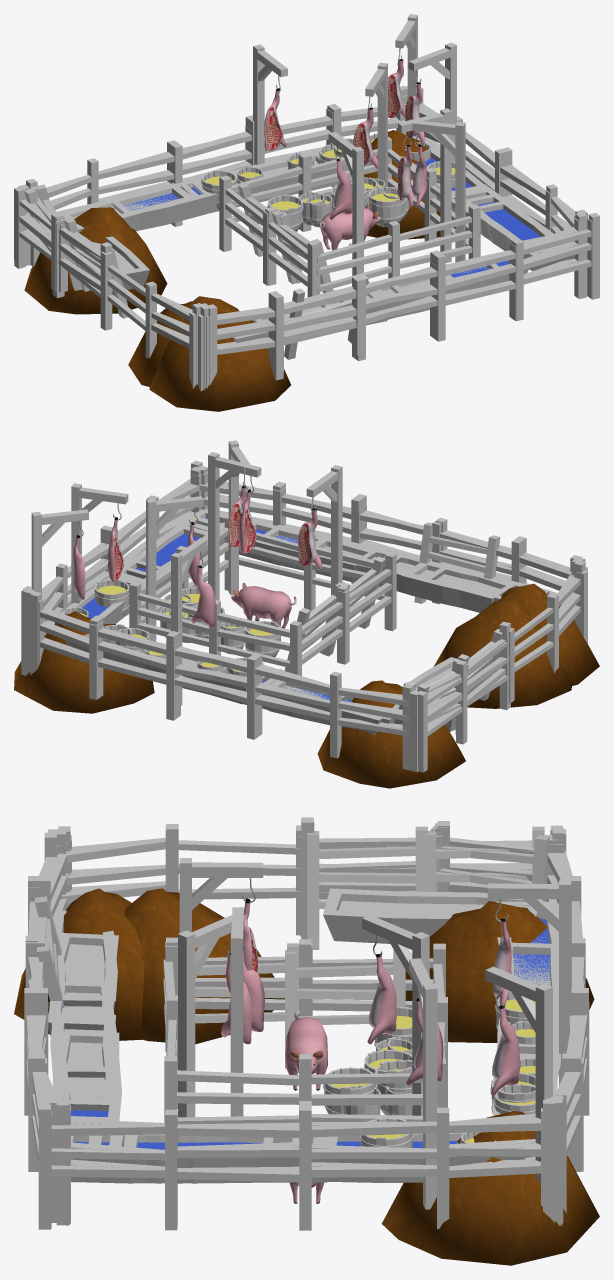
The model's file is Livestock4.fbx.
The picture shows the model from 3 angles, top to bottom: view 1: azimuth 30°, elevation 25°; view 2: azimuth 150°, elevation 25°; view 3: azimuth 270°, elevation 25°; orthographic projection. The views are drawn at different scales.
Parts seen in each view (by area): view 1: DungHeap.001, DungHeap.003, Fence.024, Carcass.003, Carcass.004, Trough.014, Carcass.006, Carcass.002, Fence.025, Carcass.001, Carcass.008, Fence.068 (+63 smaller); view 2: DungHeap.003, DungHeap.002, DungHeap.004, Carcass.002, Fence.035, Carcass.004, Fence.021, Fence.005, DungHeap.001, Trough.011, Carcass.001, Carcass.006 (+67 smaller); view 3: DungHeap.002, DungHeap.003, DungHeap.004, Trough.015, DungHeap.001, Fence.059, Fence.066, Carcass.005, Carcass.003, Carcass.006, Fence.078, Fence.026 (+61 smaller).
Boxes of the visible parts, x1,y1,x2,y2 form: DungHeap.001: [149, 312, 290, 411]; DungHeap.003: [24, 207, 167, 314]; Fence.024: [312, 222, 399, 295]; Carcass.003: [408, 119, 465, 262]; Carcass.004: [328, 132, 363, 275]; Trough.014: [109, 170, 243, 230]; Carcass.006: [253, 44, 287, 164]; Carcass.002: [397, 108, 451, 262]; Fence.025: [392, 206, 480, 268]; Carcass.001: [353, 62, 387, 187]; Carcass.008: [405, 42, 456, 161]; Fence.068: [523, 218, 592, 299]; DungHeap.003: [317, 680, 465, 788]; DungHeap.002: [14, 611, 154, 713]; DungHeap.004: [434, 600, 571, 708]; Carcass.002: [208, 452, 261, 600]; Fence.035: [338, 552, 396, 664]; Carcass.004: [298, 465, 342, 595]; Fence.021: [209, 601, 301, 675]; Fence.005: [247, 658, 341, 758]; DungHeap.001: [497, 583, 599, 685]; Trough.011: [401, 562, 549, 607]; Carcass.001: [146, 496, 203, 641]; Carcass.006: [171, 538, 215, 705]; DungHeap.002: [381, 1111, 599, 1265]; DungHeap.003: [405, 901, 594, 1042]; DungHeap.004: [124, 888, 284, 1044]; Trough.015: [323, 888, 537, 943]; DungHeap.001: [14, 888, 144, 1040]; Fence.059: [299, 1105, 436, 1230]; Fence.066: [38, 1104, 164, 1229]; Carcass.005: [485, 966, 552, 1184]; Carcass.003: [178, 913, 251, 1117]; Carcass.006: [487, 879, 571, 1085]; Fence.078: [449, 1098, 555, 1222]; Fence.026: [164, 1056, 299, 1124].
Bounding box in the file's own units: 938 × 552 × 1179.
